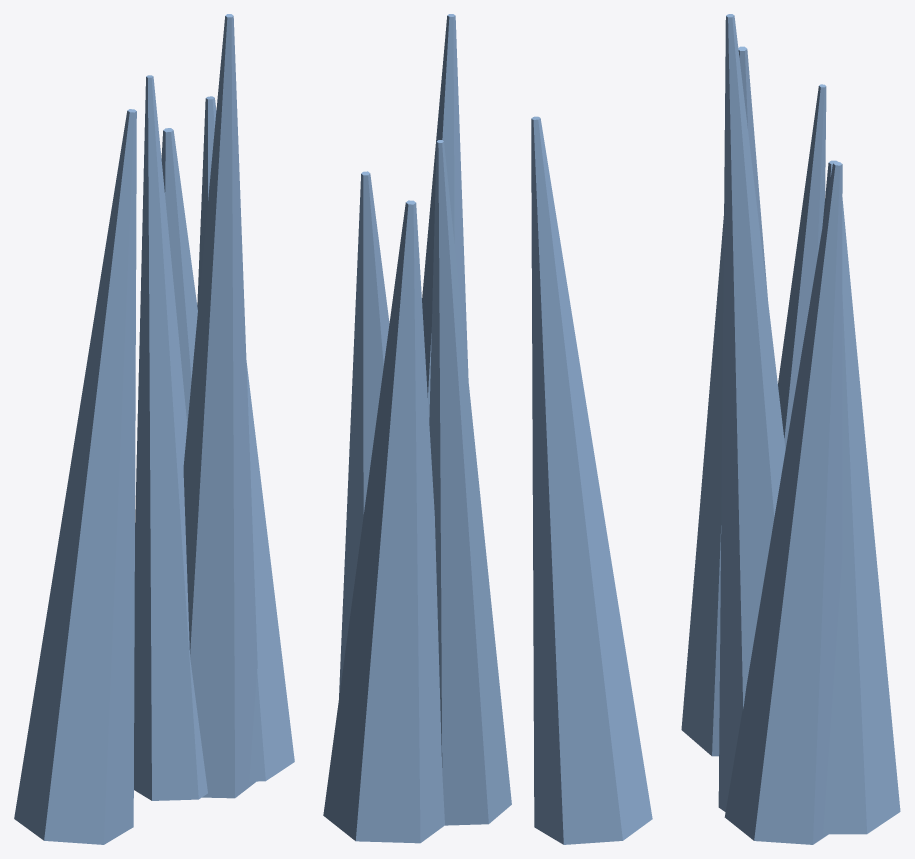
The model's file is resource_crystal_2.glb.
3 renders of one model, left to right at view 1: azimuth 30°, elevation 25°; view 2: azimuth 150°, elevation 25°; view 3: azimuth 270°, elevation 25°, orthographic. The views are drawn at different scales.
Visible parts, largest first — view 1: resource_crystal_2; view 2: resource_crystal_2; view 3: resource_crystal_2.
Part boxes in pixels (x1,y1,x2,y2): resource_crystal_2: (14, 14, 294, 844); resource_crystal_2: (323, 14, 652, 844); resource_crystal_2: (681, 14, 900, 844).
Size of the model in its own units: 0.7489 by 2.06 by 0.5144.
